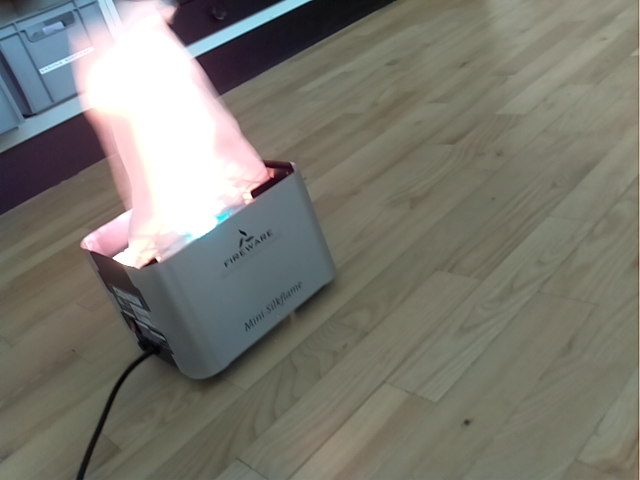fire: (72, 1, 271, 270)
